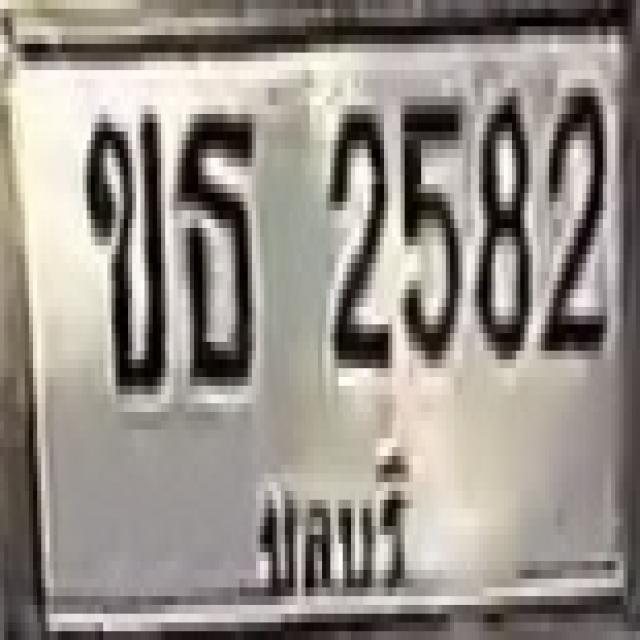-: (83, 105, 161, 386), (173, 105, 252, 377)
2: (537, 84, 603, 346), (326, 96, 384, 360)
5: (396, 88, 458, 360)
8: (471, 87, 528, 350)
CBI: (251, 428, 424, 609)
